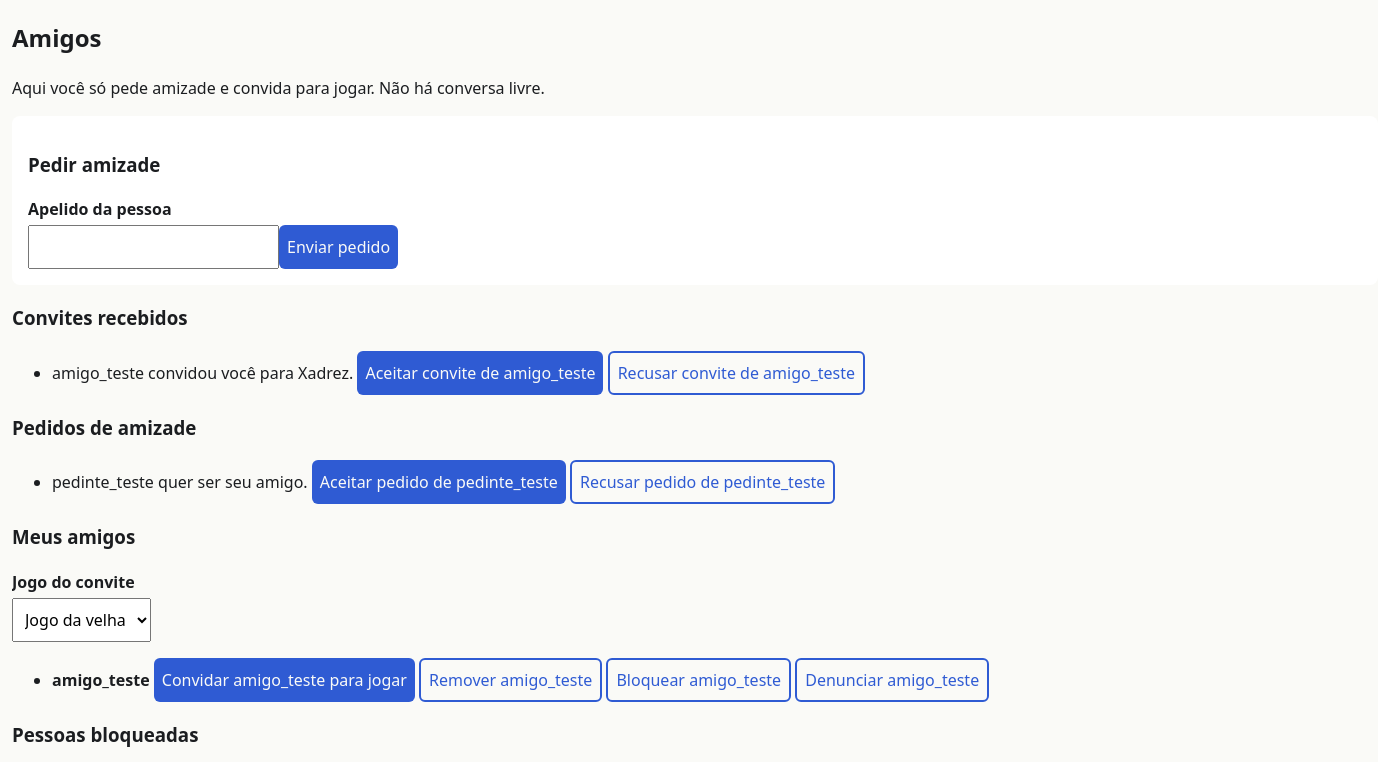
Test case: convite expirado mostra a mensagem do servidor
Click the button "Aceitar convite de amigo_teste".
click(480, 373)  # box [358,351,604,395]
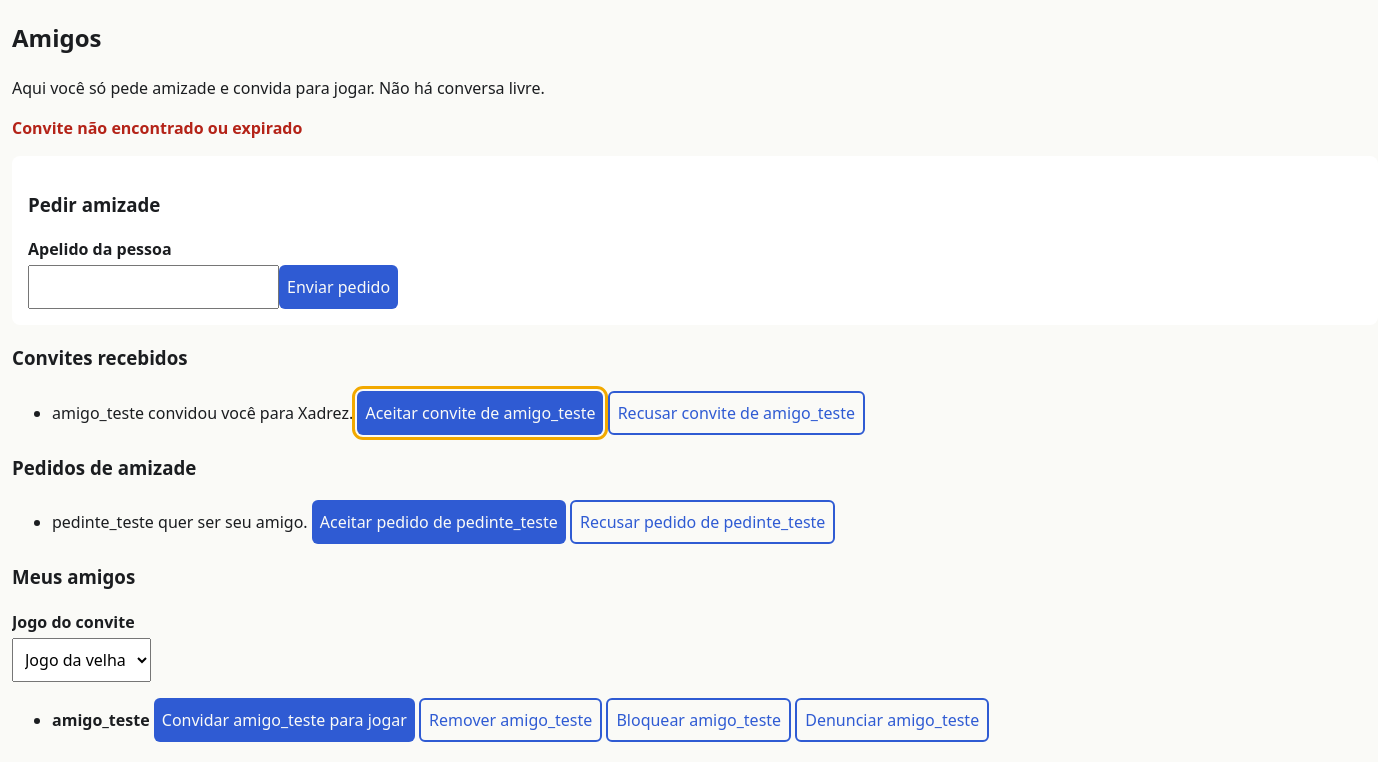
Expected: the message reads "Convite não encontrado ou expirado", [12,117,302,139]
